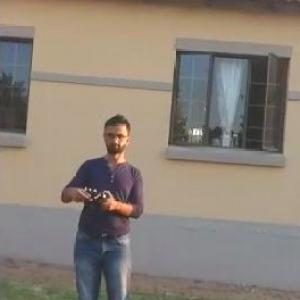follow: (52, 109, 148, 299)
